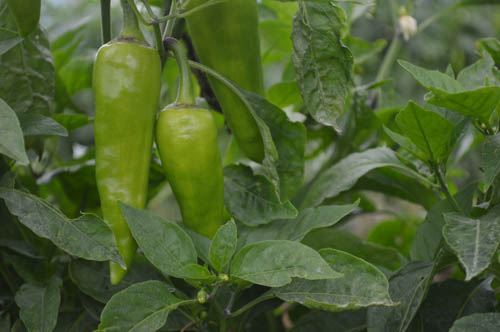ChiliPepper: (92, 42, 159, 286), (190, 3, 269, 160), (160, 106, 224, 236)
